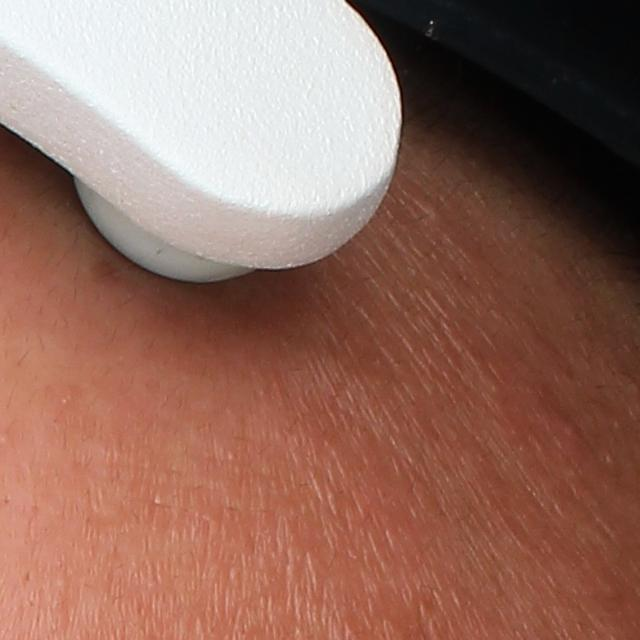papule: (550, 413, 587, 448)
